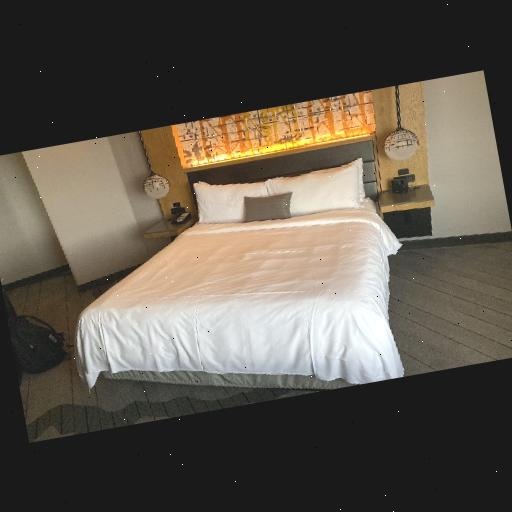clean_bed: (82, 137, 400, 388)
organised_pillow: (183, 150, 374, 240)
